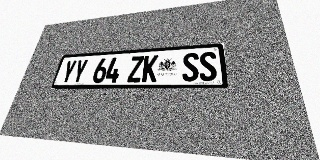4: (104, 57, 122, 83)
6: (92, 58, 109, 83)
K: (141, 55, 159, 82)
S: (199, 51, 218, 81), (182, 52, 199, 82)
Y: (71, 59, 89, 83), (60, 60, 77, 84)
Z: (127, 56, 144, 82)
